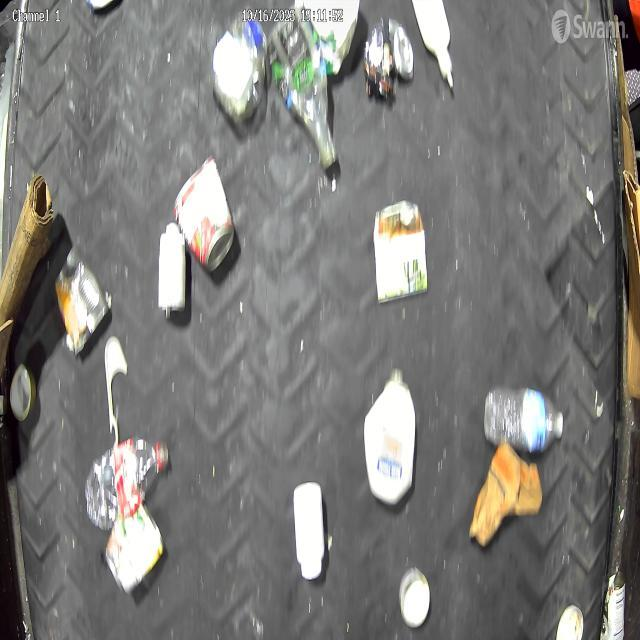can: (172, 156, 236, 274), (370, 197, 430, 306), (54, 247, 110, 361), (104, 498, 166, 594), (363, 14, 414, 105), (398, 566, 432, 630), (9, 360, 38, 422), (604, 567, 626, 640)
plastic_bottle: (265, 6, 340, 170), (82, 431, 172, 532), (483, 384, 567, 454)
